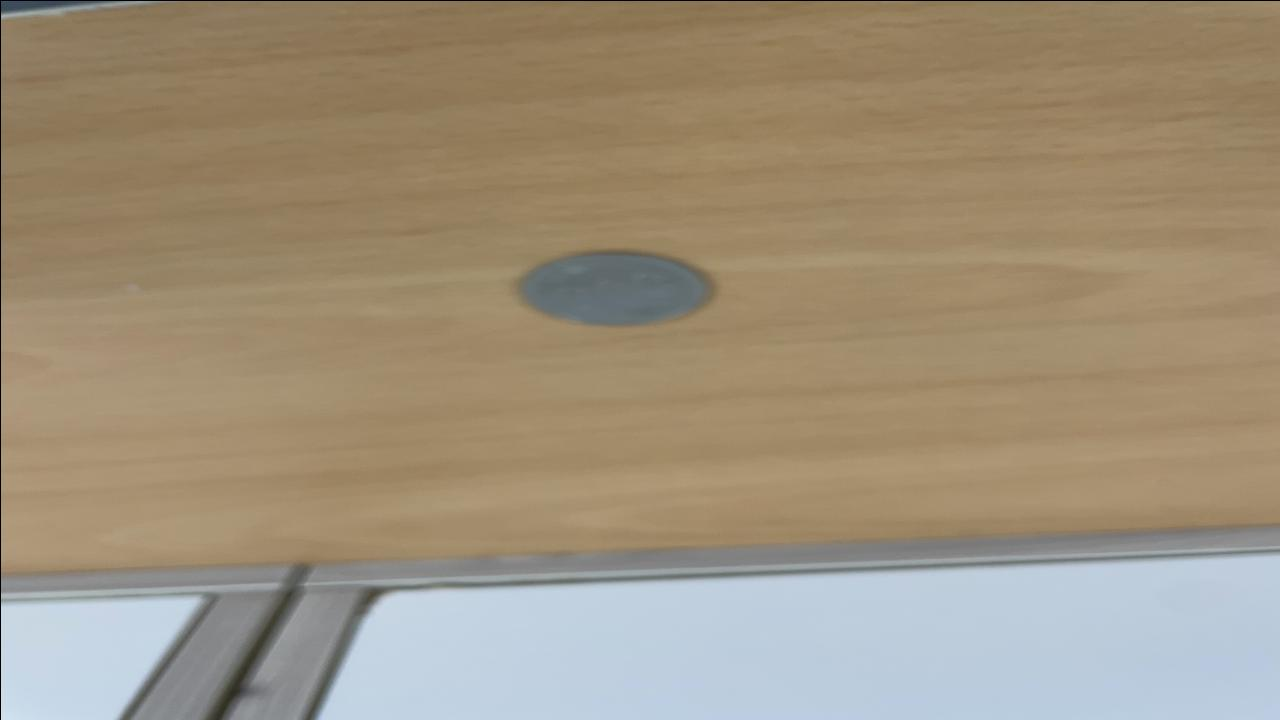coin: (515, 249, 717, 327)
